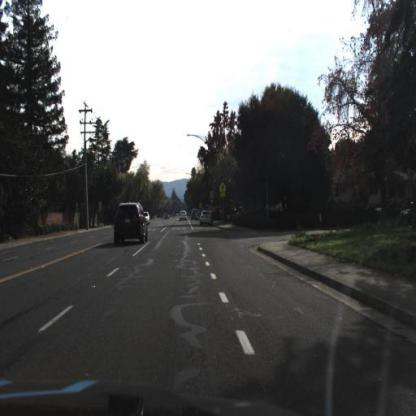car: (110, 197, 151, 250), (178, 208, 190, 226), (178, 208, 190, 222), (202, 212, 214, 226), (192, 208, 202, 221)
